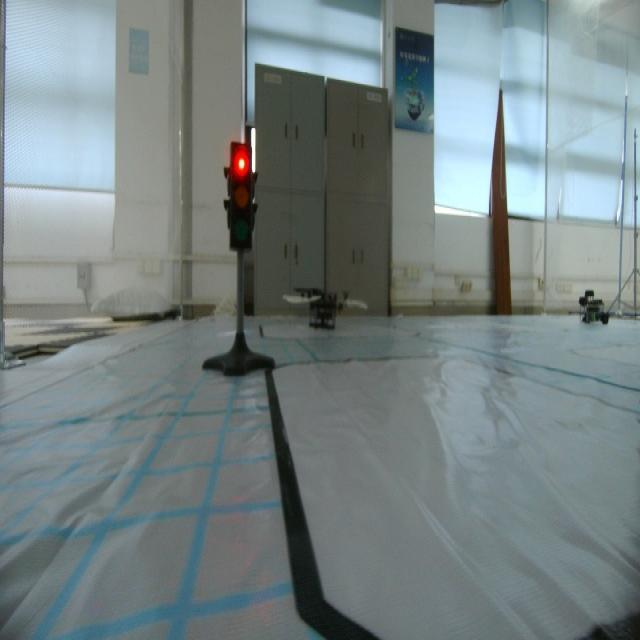red: (226, 134, 257, 252)
